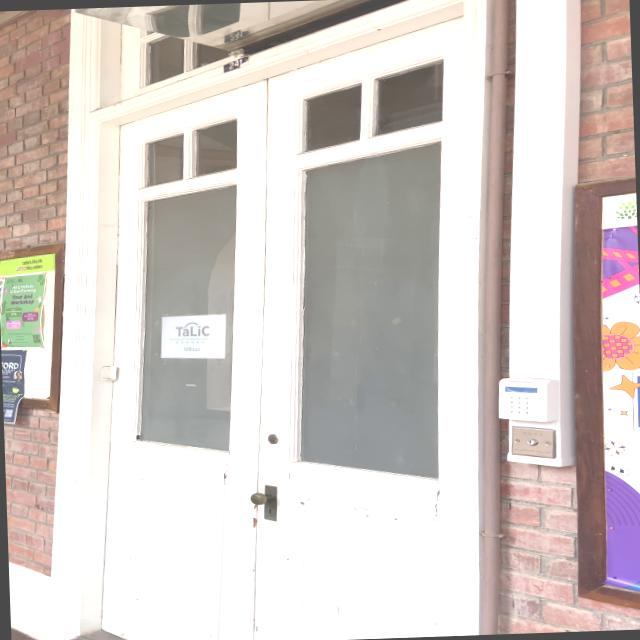room241: (216, 54, 252, 74)
